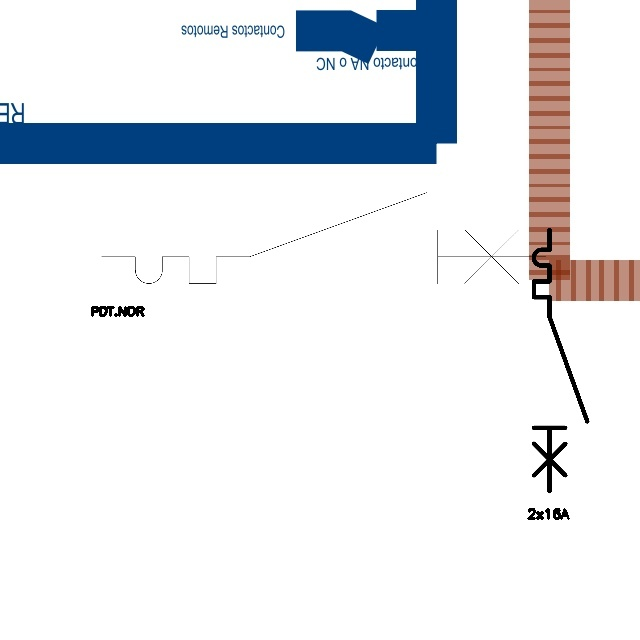interruptor_termomagnetico: (90, 181, 557, 295), (527, 223, 594, 498)
